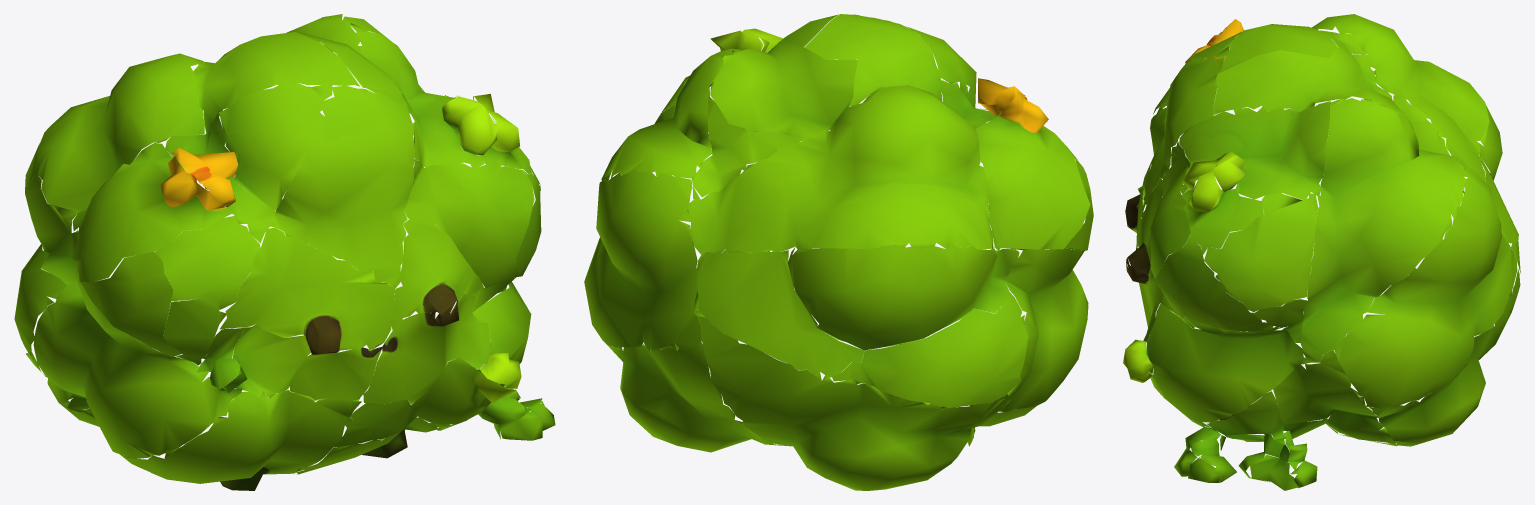
The model's file is busch_1.glb.
The picture shows the model from 3 angles, left to right: view 1: azimuth 30°, elevation 25°; view 2: azimuth 150°, elevation 25°; view 3: azimuth 270°, elevation 25°; orthographic projection. The views are drawn at different scales.
Visible parts, largest first — view 1: tripo_node_cd579e1e-b95a-4535-9029-4721d45f7d55; view 2: tripo_node_cd579e1e-b95a-4535-9029-4721d45f7d55; view 3: tripo_node_cd579e1e-b95a-4535-9029-4721d45f7d55.
Boxes of the visible parts, bbox=[...] form: tripo_node_cd579e1e-b95a-4535-9029-4721d45f7d55: bbox=[14, 14, 555, 490]; tripo_node_cd579e1e-b95a-4535-9029-4721d45f7d55: bbox=[584, 14, 1093, 490]; tripo_node_cd579e1e-b95a-4535-9029-4721d45f7d55: bbox=[1123, 14, 1520, 490].
Bounding box in the file's own units: 0.9999 × 0.8747 × 0.8699.
1 material, 1 textured.
